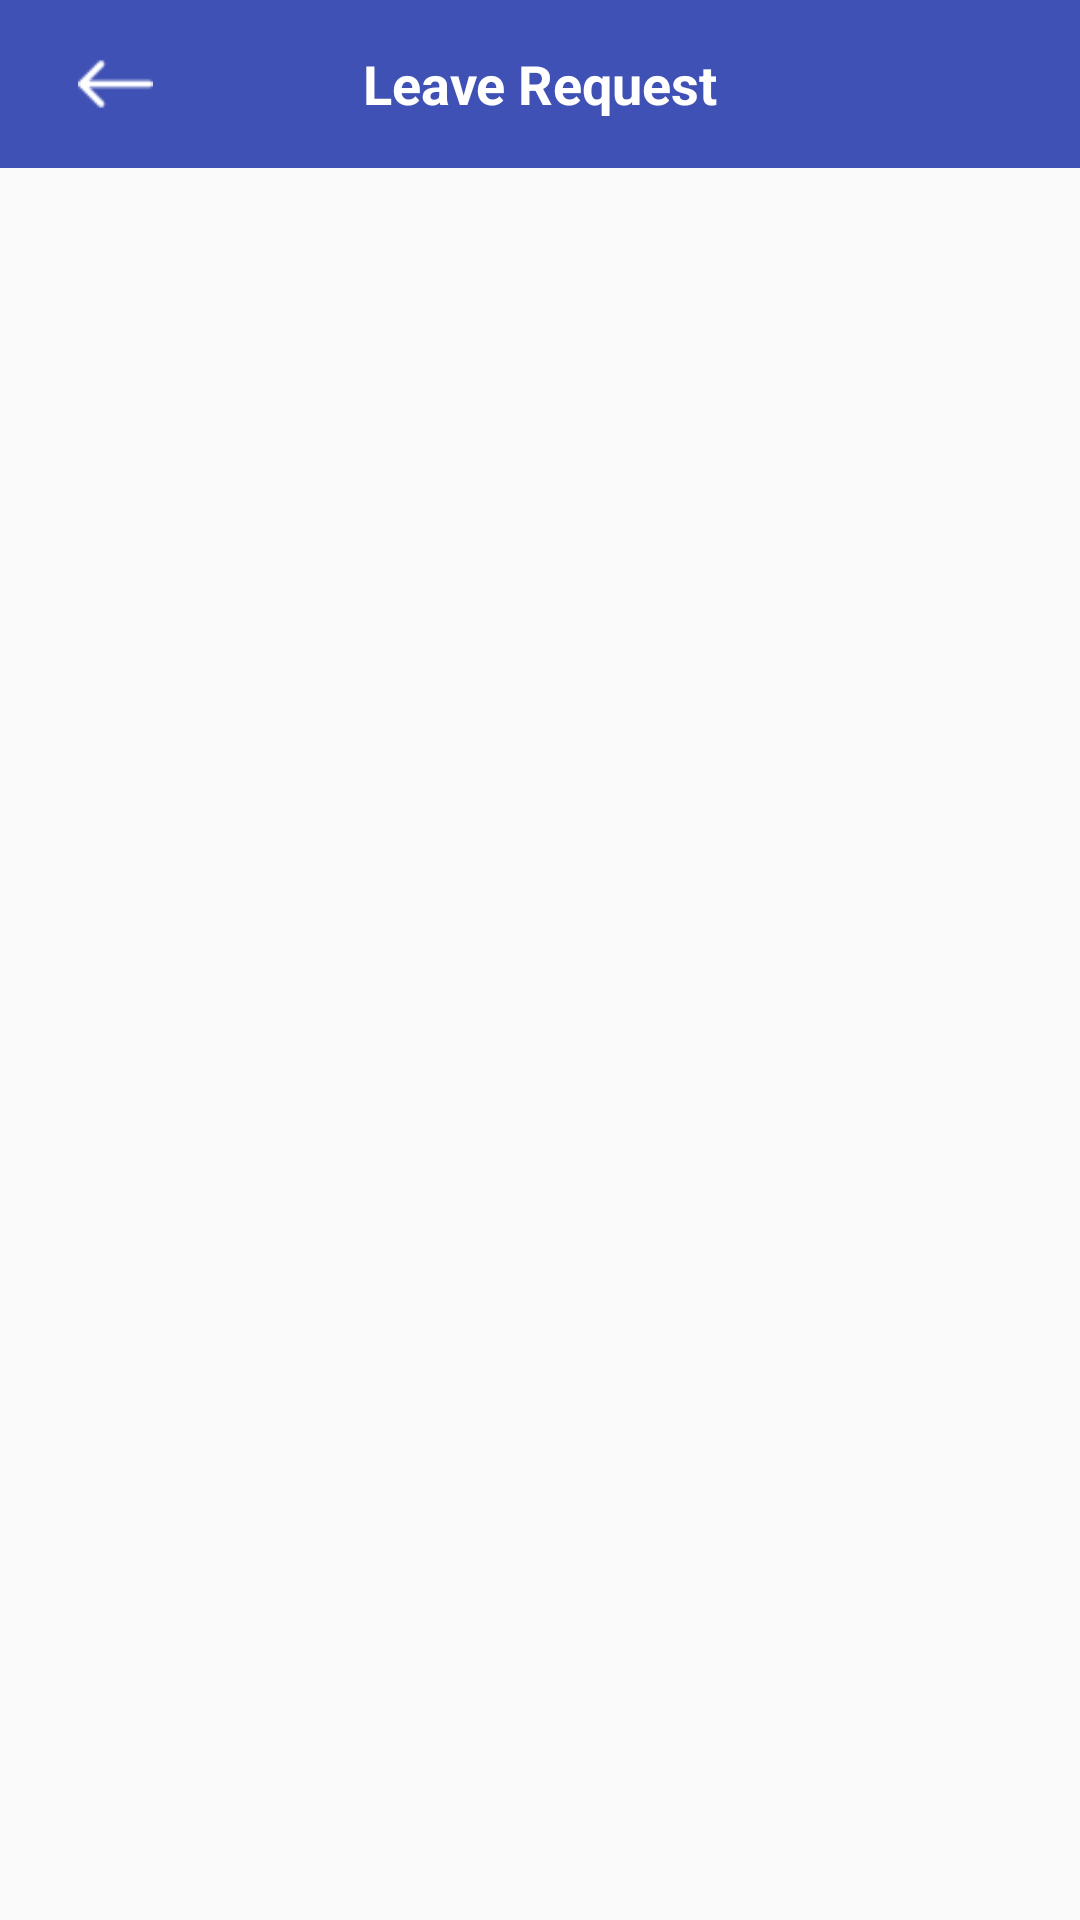

Screen size 1080x1920. Icon name, then its box in pixels as [x1,y1,x2,y2]:
back: [78,60,153,108]
